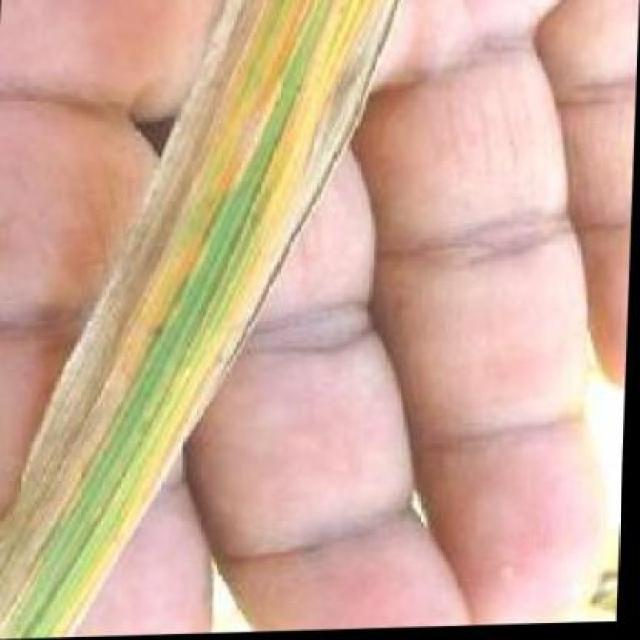Brown_Spot: (30, 0, 408, 511)
